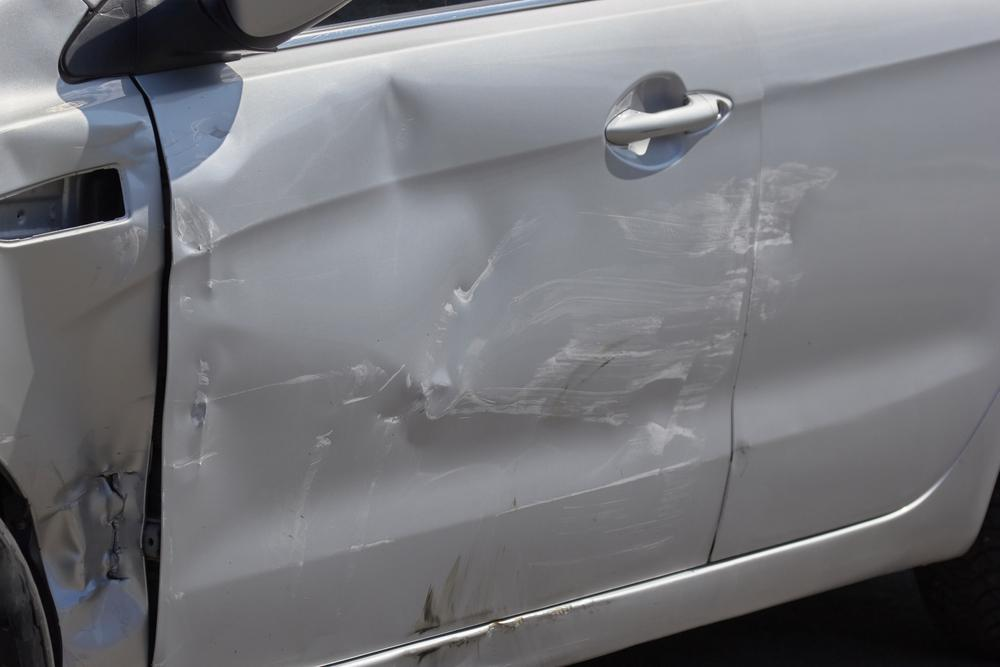dent: (166, 80, 644, 573), (0, 242, 152, 649)
scratch: (557, 166, 761, 571), (753, 158, 845, 324), (407, 603, 578, 667), (411, 540, 505, 635)
